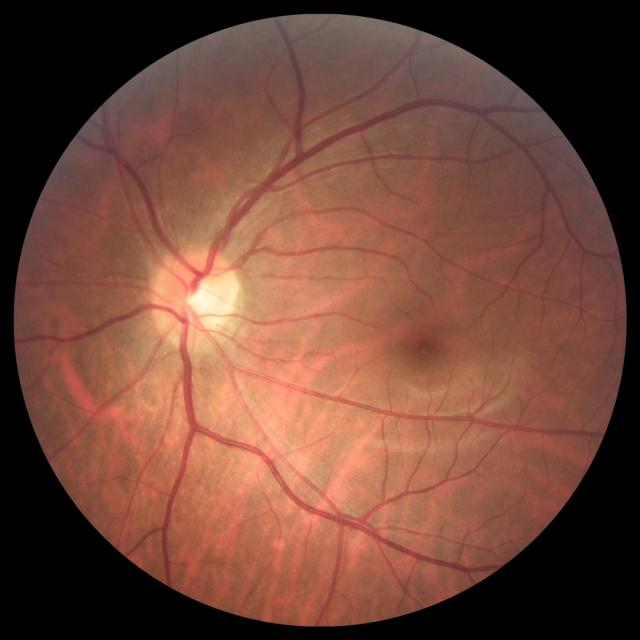OC: (185, 276, 225, 323)
OD: (149, 248, 237, 345)
